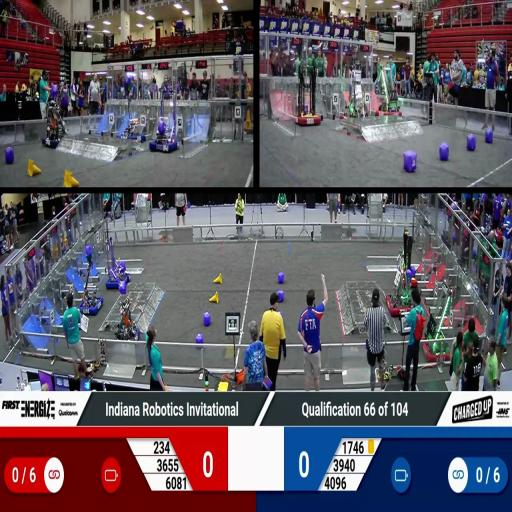robot: (422, 277, 458, 360), (74, 244, 103, 318), (150, 85, 180, 154), (338, 62, 370, 126), (385, 253, 416, 315), (294, 60, 322, 128), (374, 63, 403, 118), (102, 238, 130, 292), (43, 100, 65, 150), (116, 299, 139, 346), (115, 114, 146, 144)
